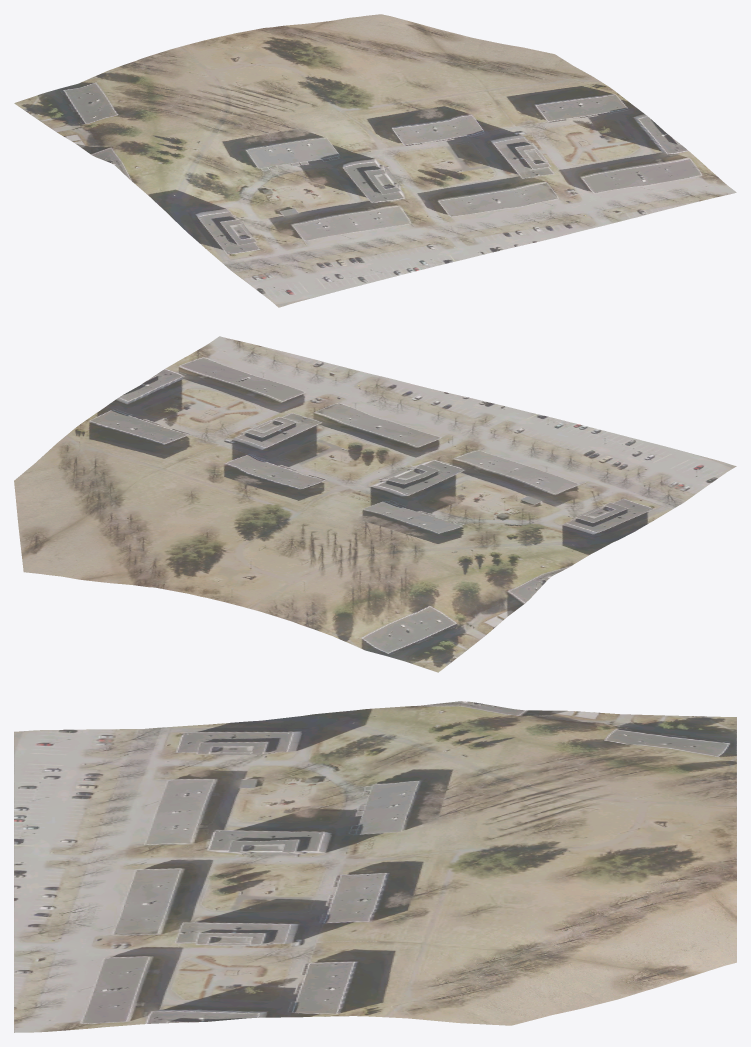
Rendered from CM_Terrain_24493121_6817541.fbx.
3 renders of one model, top to bottom at view 1: azimuth 30°, elevation 25°; view 2: azimuth 150°, elevation 25°; view 3: azimuth 270°, elevation 25°, orthographic. The views are drawn at different scales.
Visible parts, largest first — view 1: CM_Terrain_24493121_6817541_LOD0; view 2: CM_Terrain_24493121_6817541_LOD0; view 3: CM_Terrain_24493121_6817541_LOD0.
Part boxes in pixels (x1,y1,x2,y2): CM_Terrain_24493121_6817541_LOD0: [14, 14, 736, 307]; CM_Terrain_24493121_6817541_LOD0: [14, 336, 736, 672]; CM_Terrain_24493121_6817541_LOD0: [14, 701, 736, 1032].
Size of what is drawn, in the model's own units: 205 by 11.77 by 205.
